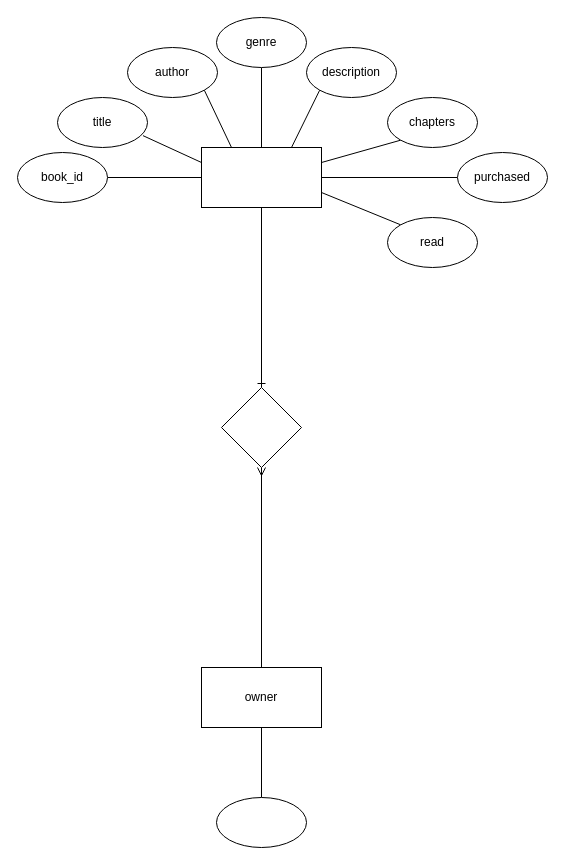
The diagram is 565 pixels wide and 865 high, and some of its shapes have lost their labels. Here are the shapes that lost their labels. From the top down, the box of each, then its label:
(200, 146, 322, 208): book
(220, 386, 302, 468): own
(216, 796, 306, 848): owner_id
